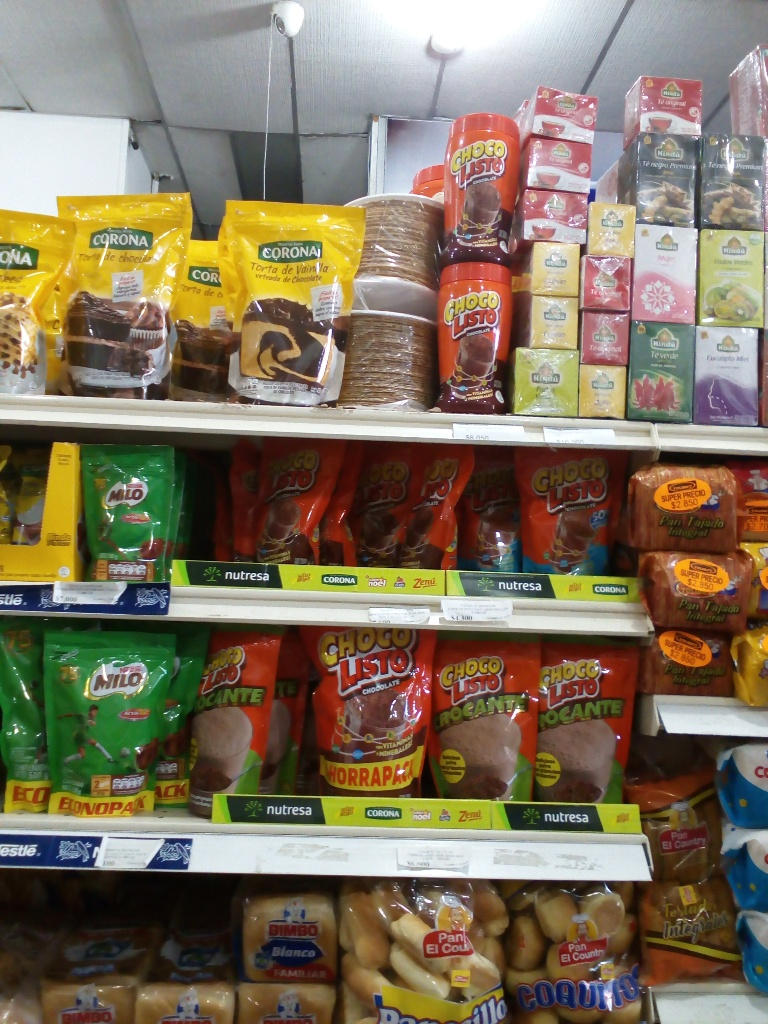COL0170102DYP50000: (195, 631, 282, 809)
COL0170103DYP44000: (290, 629, 430, 794)
COL0170103TRR30000: (442, 111, 520, 263)
COL0170104DYP20000: (481, 451, 620, 573)
COL0170203DYP10000: (80, 435, 171, 585)
COL0170203DYP50000: (0, 622, 50, 820)
